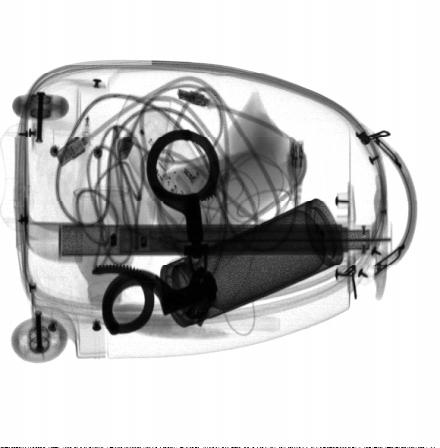HandCuffs: (90, 128, 218, 336)
